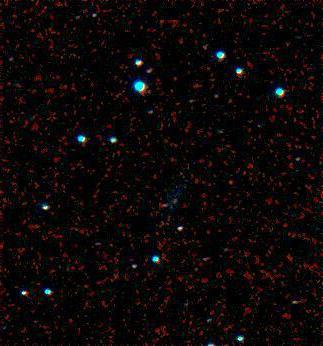star: (218, 163, 248, 193)
